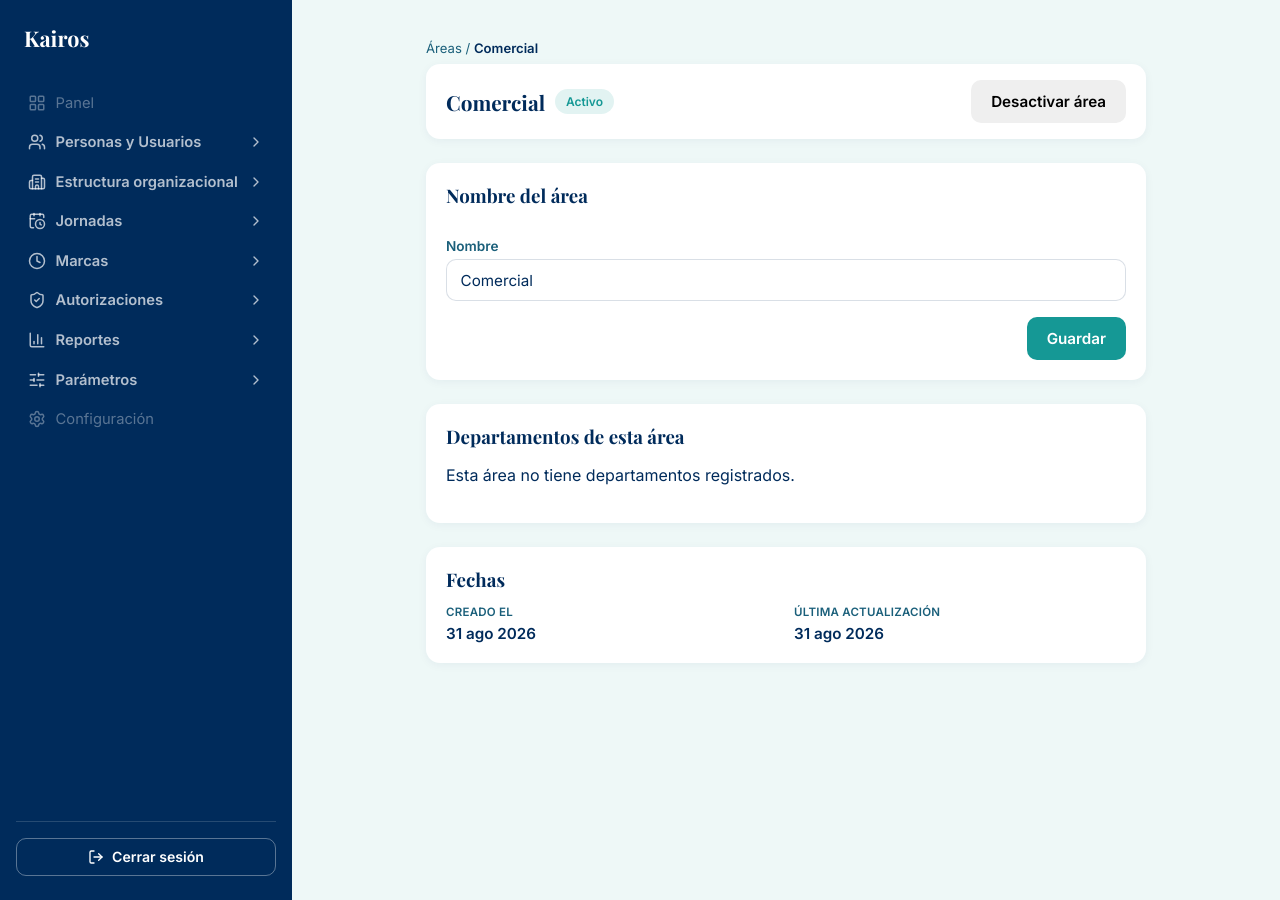
Test: FichaAreaPage › desactiva el área vía PATCH /api/areas/:id/estado
The image size is (1280, 900).
Expected: the text "Comercial" next to "Áreas" is shown, [474, 40, 538, 56]
Click the button "Desactivar área" at [1049, 102], box [971, 80, 1126, 123]
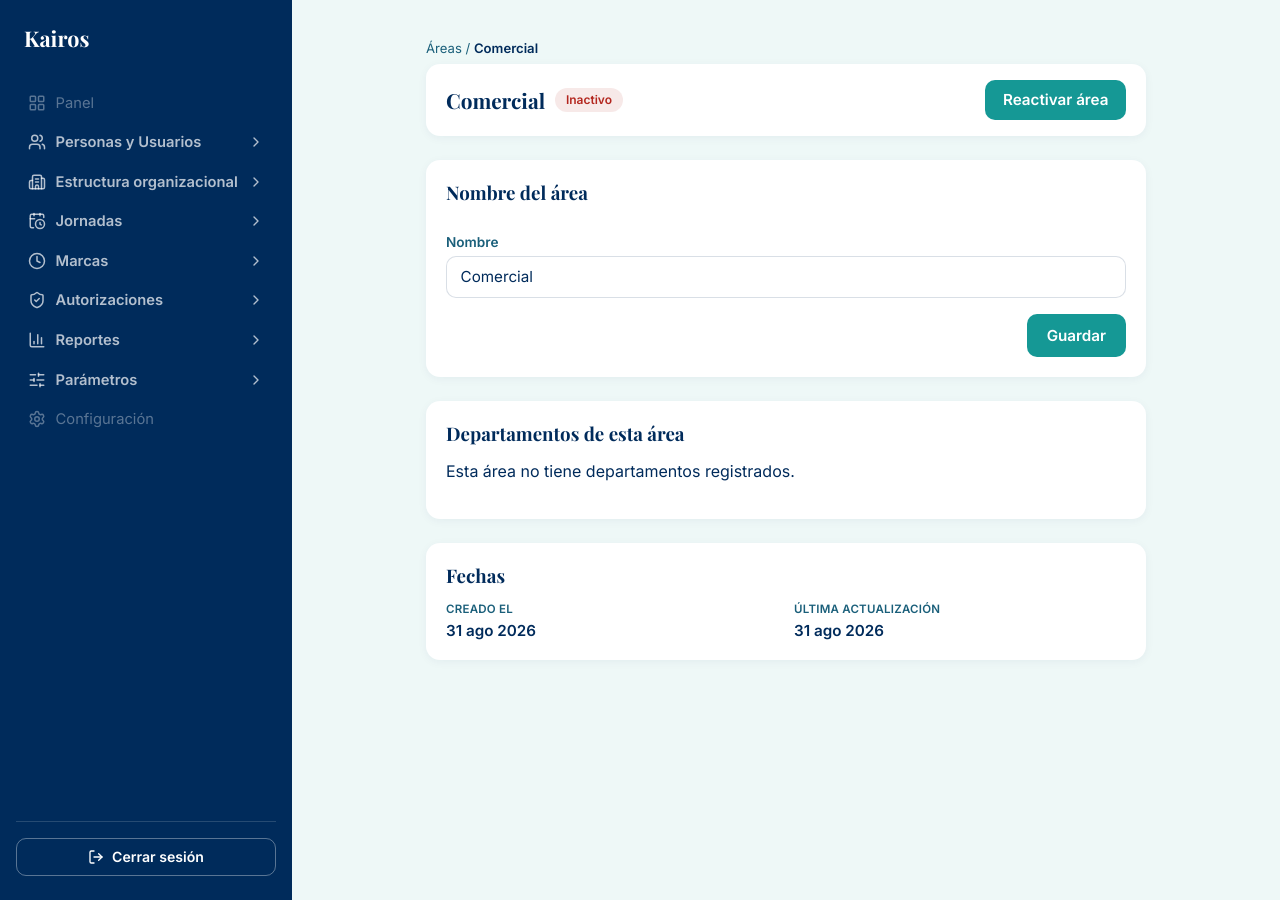
Expected: the text "Inactivo" is shown, [555, 88, 623, 112]
Expected: the button "Reactivar área" is shown, [985, 80, 1126, 120]
